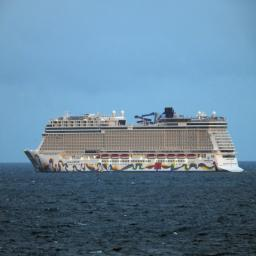cruises: (24, 104, 247, 178)
